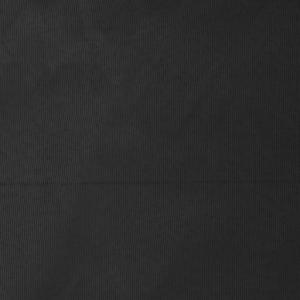Wrinkle: (57, 1, 128, 101), (164, 60, 233, 149), (33, 228, 108, 300), (141, 247, 186, 300)
